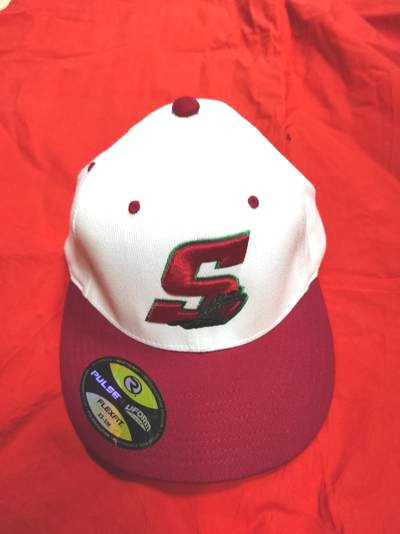Hat: (39, 72, 352, 489)
